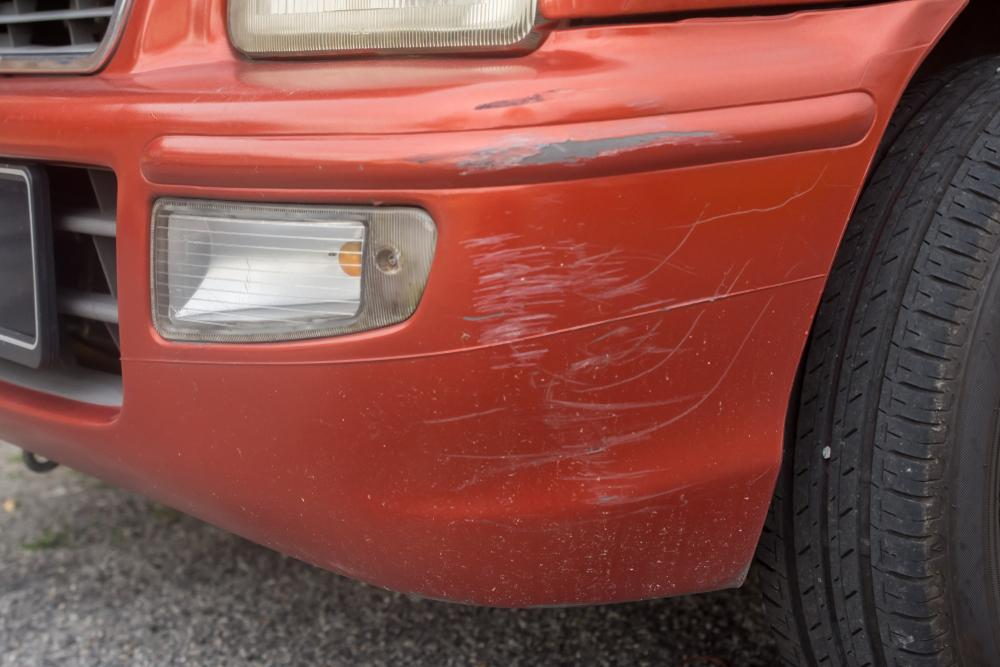scratch: (444, 182, 816, 525), (420, 80, 722, 173)
